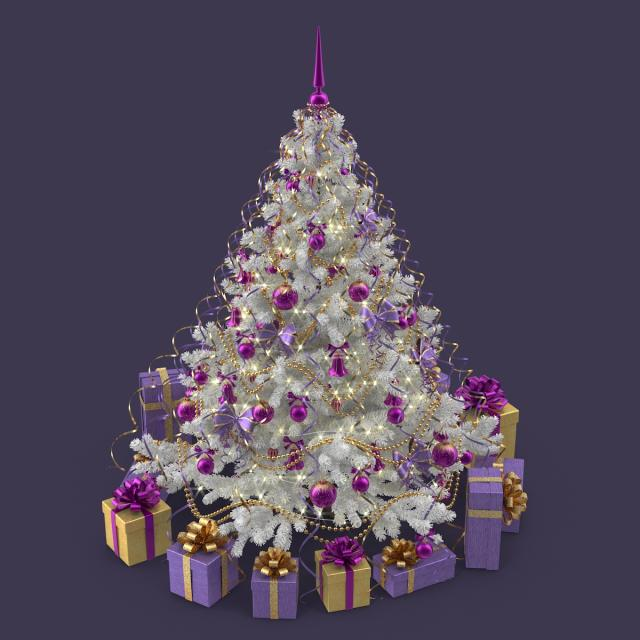Christmas-tree: (126, 11, 459, 517)
